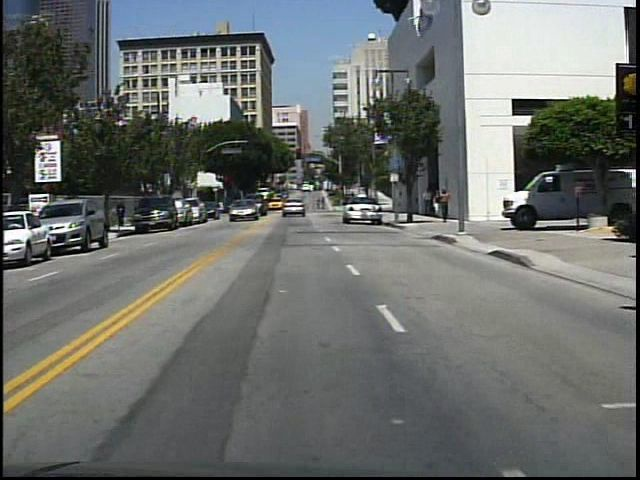person: (438, 187, 451, 223), (115, 198, 130, 229), (421, 186, 434, 218), (215, 197, 229, 219), (433, 189, 441, 219)
